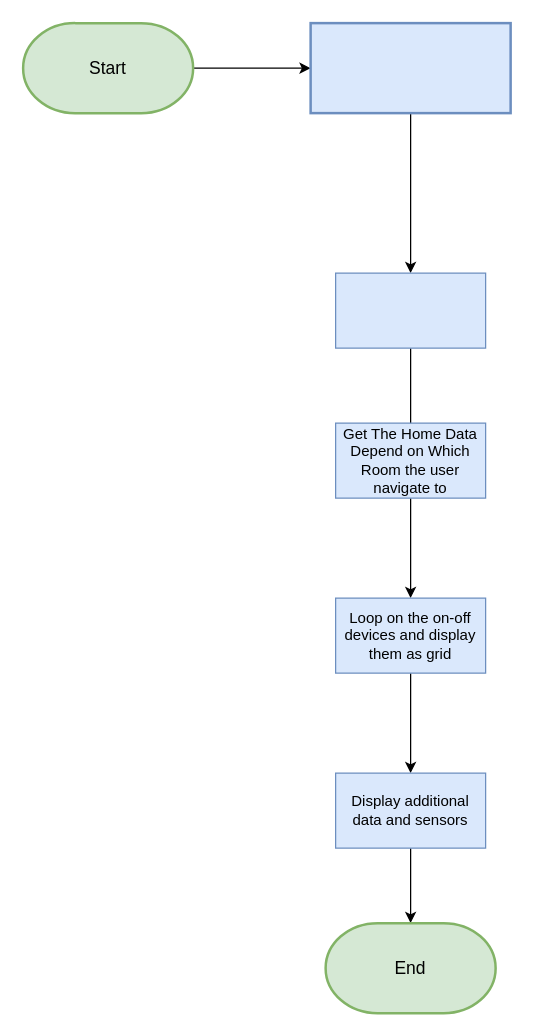
Some shapes in this 533 by 1035 pixel diagram are drawn without their labels. The shapes that lost their labels are listed below. From the top down, each one's centre as x and y in pixels, then its label:
At point (410, 67): "Get User Id from provider".
At point (410, 310): "Get the Home Code From DB using user id".
